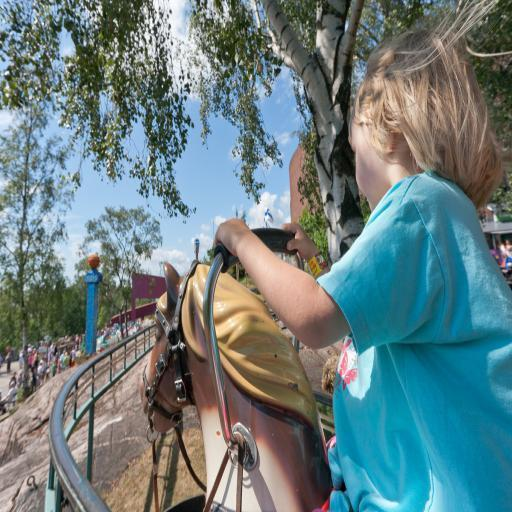horse: (142, 256, 328, 512)
